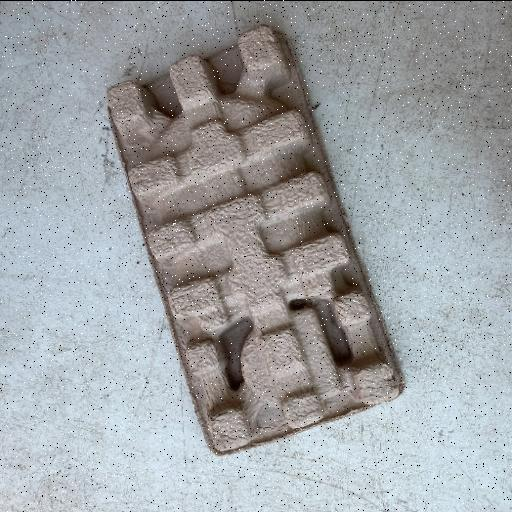Cardboard: (104, 24, 404, 458)
